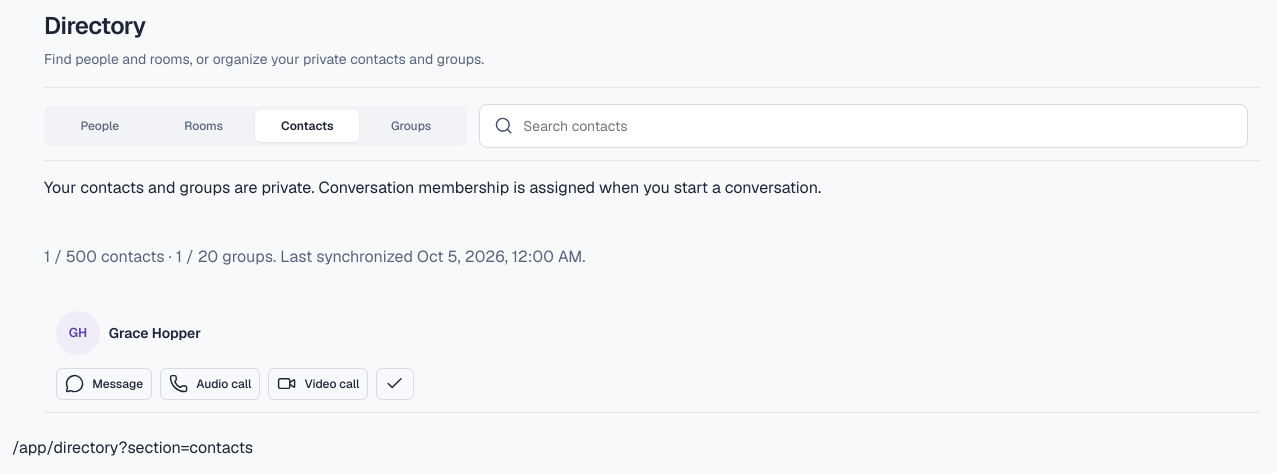
Test: private contact communication › reuses the actual direct conversation for one selected contact and URL navigation
The image size is (1277, 473).
What coordinates should you click on to do the following:
click the button with aria-label "Message Grace Hopper"
I would click on:
 (104, 384)
Its box is [56, 368, 152, 400].
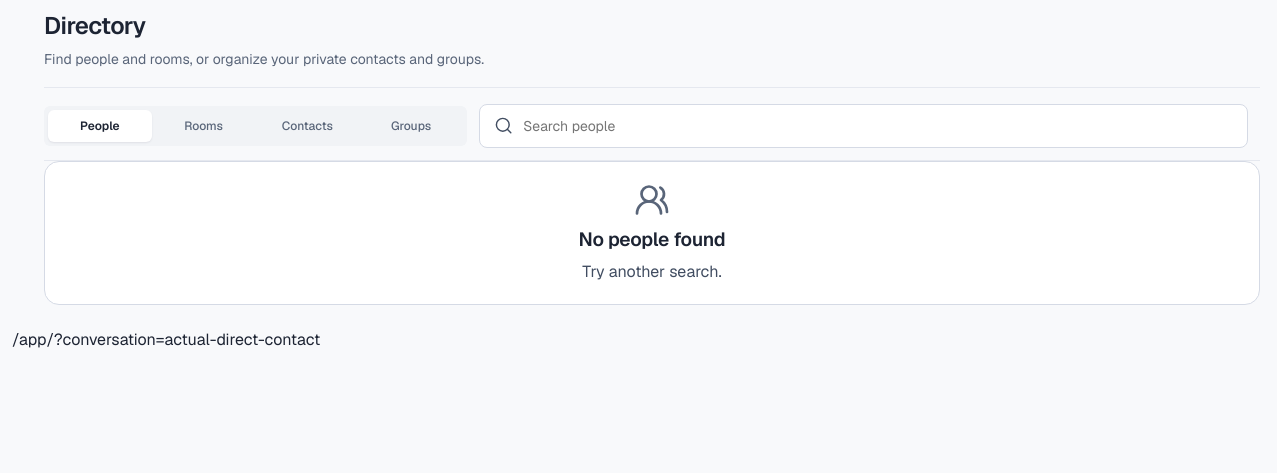
Now the text named "location" reads "/app/?conversation=actual-direct-contact", box [12, 330, 320, 350]
